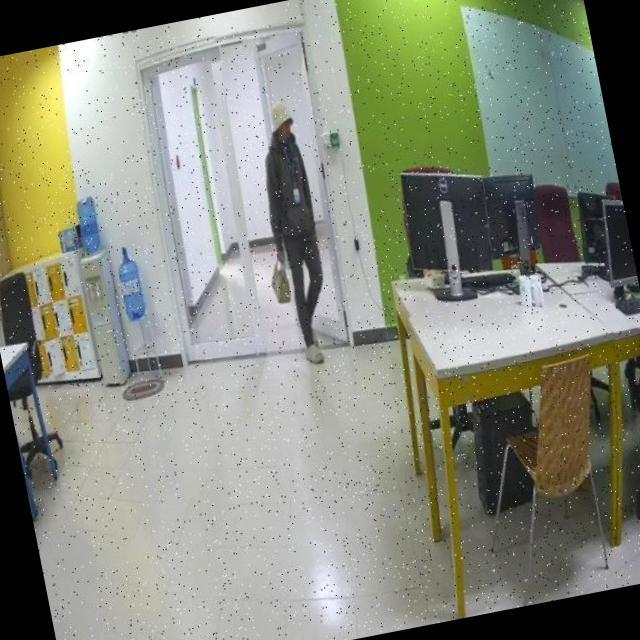person: (245, 102, 348, 372)
